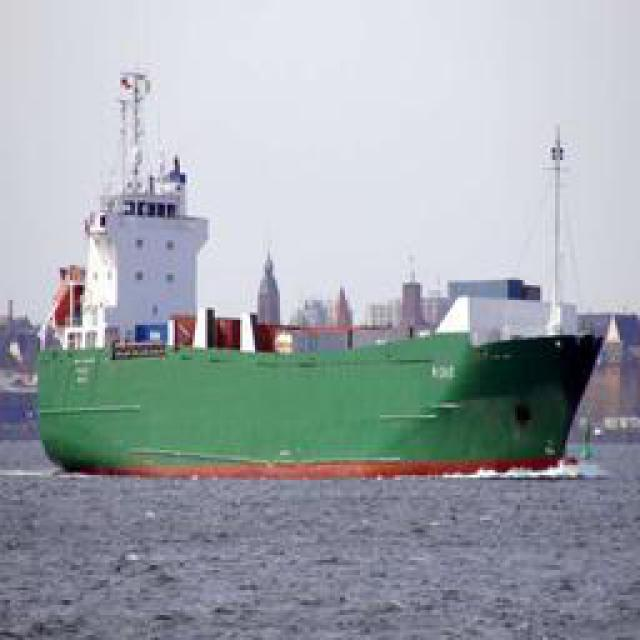Ship: (31, 93, 624, 481)
